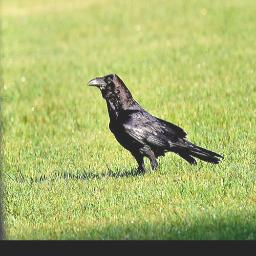Crow: (85, 71, 225, 178)
